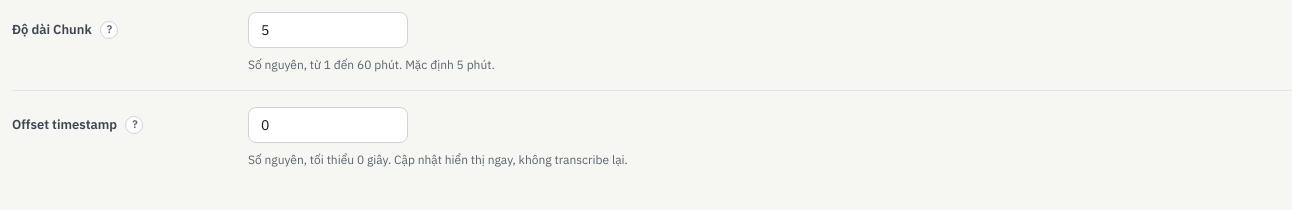
Test case: SettingsChunking › blocks an invalid chunkMinutes value (-2) inline without saving
Replace the text in the field labelled "Độ dài Chunk" with "-2": (328, 30) 248,12 -> 408,48
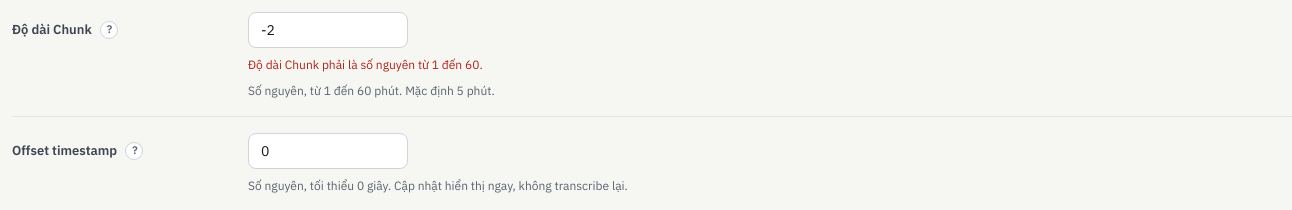
Check: the message "Độ dài Chunk phải là số nguyên từ 1 đến 60." is shown, box 248,57 -> 483,72
